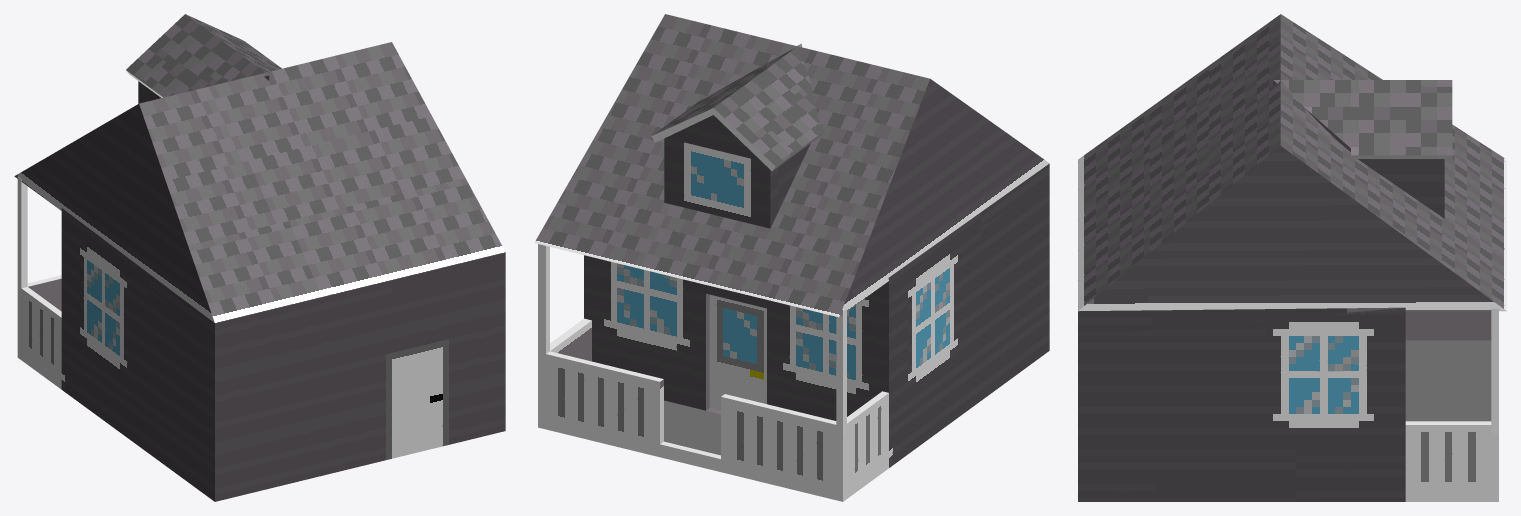
The model's file is house2.gltf.
3 renders of one model, left to right at view 1: azimuth 30°, elevation 25°; view 2: azimuth 150°, elevation 25°; view 3: azimuth 270°, elevation 25°, orthographic. The views are drawn at different scales.
Parts seen in each view (by area): view 1: cuboid (×2); view 2: cuboid (×2); view 3: cuboid (×2).
Part boxes in pixels (left/top/right/bottom): cuboid (×2): left=14, top=14, right=505, bottom=501; cuboid (×2): left=534, top=14, right=1049, bottom=501; cuboid (×2): left=1078, top=14, right=1506, bottom=501.
Size of the model in its own units: 2.88 by 3.06 by 3.44.
Materials: 2 (2 with a texture image).
